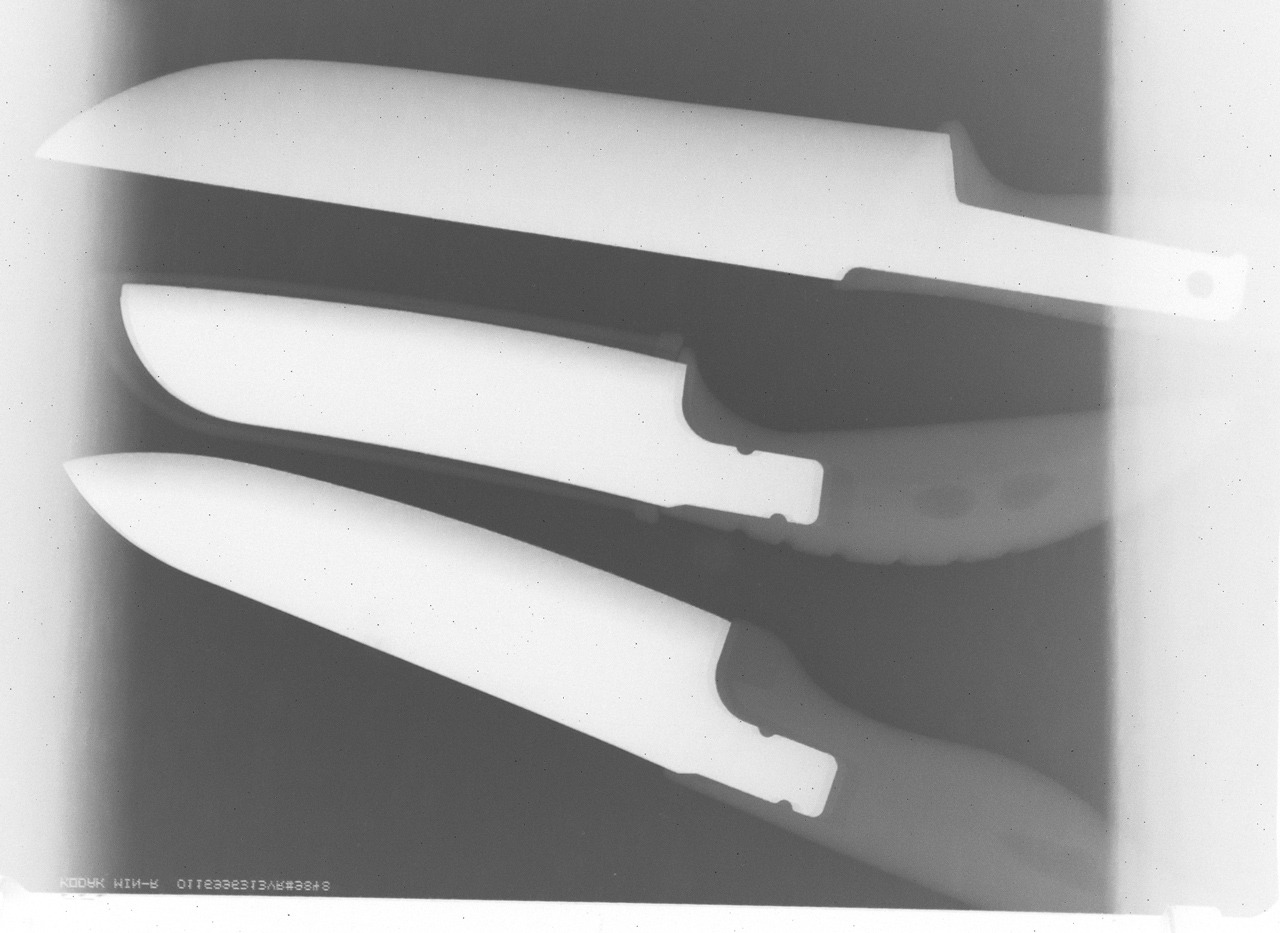knife: (59, 438, 1115, 933), (23, 47, 1274, 356), (103, 250, 1146, 571)
